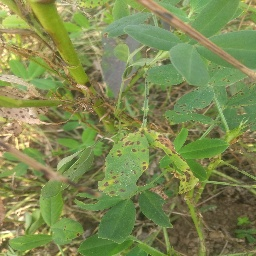GroundNut_Leaf: (100, 132, 148, 198), (179, 2, 241, 42), (100, 37, 122, 109), (99, 200, 136, 242), (123, 24, 178, 50), (179, 43, 209, 85), (178, 137, 229, 161), (40, 180, 63, 227), (141, 202, 175, 229), (66, 147, 95, 178), (212, 43, 256, 63), (218, 107, 256, 130), (176, 90, 213, 111), (10, 233, 52, 251), (213, 68, 249, 88), (146, 64, 178, 82), (77, 245, 128, 255), (13, 60, 40, 78), (106, 16, 121, 37), (30, 81, 61, 89)
